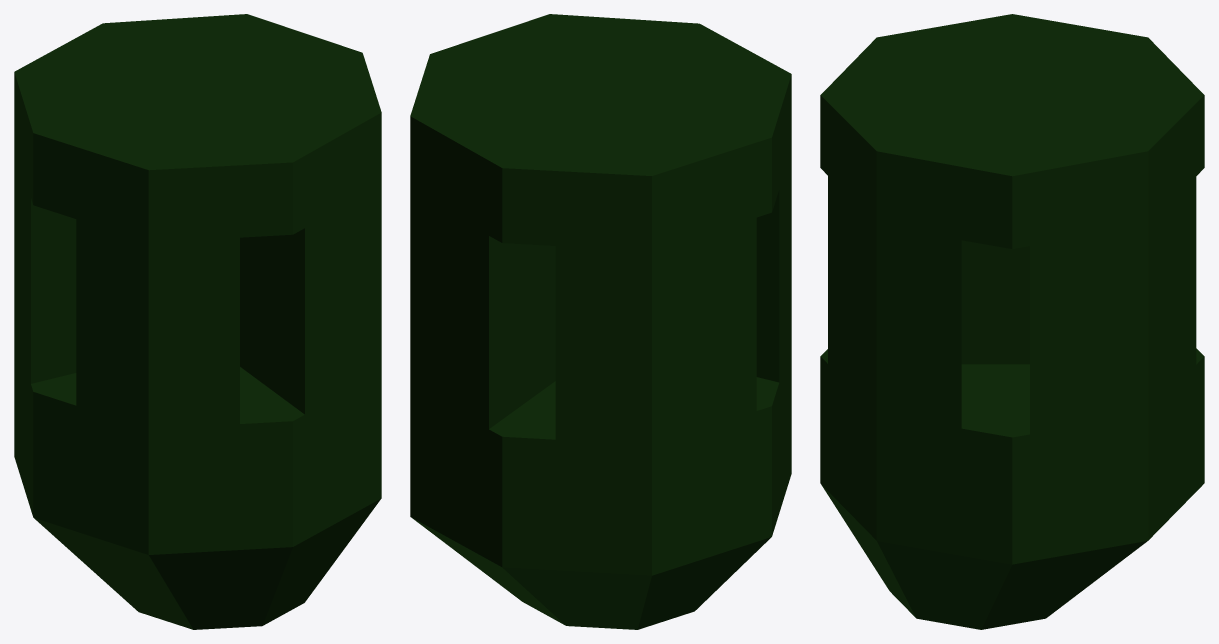
The model's file is round-tower-6.fbx.
3 renders of one model, left to right at view 1: azimuth 30°, elevation 25°; view 2: azimuth 150°, elevation 25°; view 3: azimuth 270°, elevation 25°, orthographic. The views are drawn at different scales.
Parts seen in each view (by area): view 1: round-tower-6; view 2: round-tower-6; view 3: round-tower-6.
Part boxes in pixels (x1=…): round-tower-6: x1=14, y1=14, x2=381, y2=629; round-tower-6: x1=410, y1=14, x2=791, y2=629; round-tower-6: x1=820, y1=14, x2=1204, y2=629.
Size of the model in its own units: 1.45 by 2.06 by 1.45.
